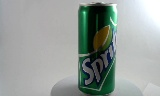sprite: (71, 1, 110, 95)
